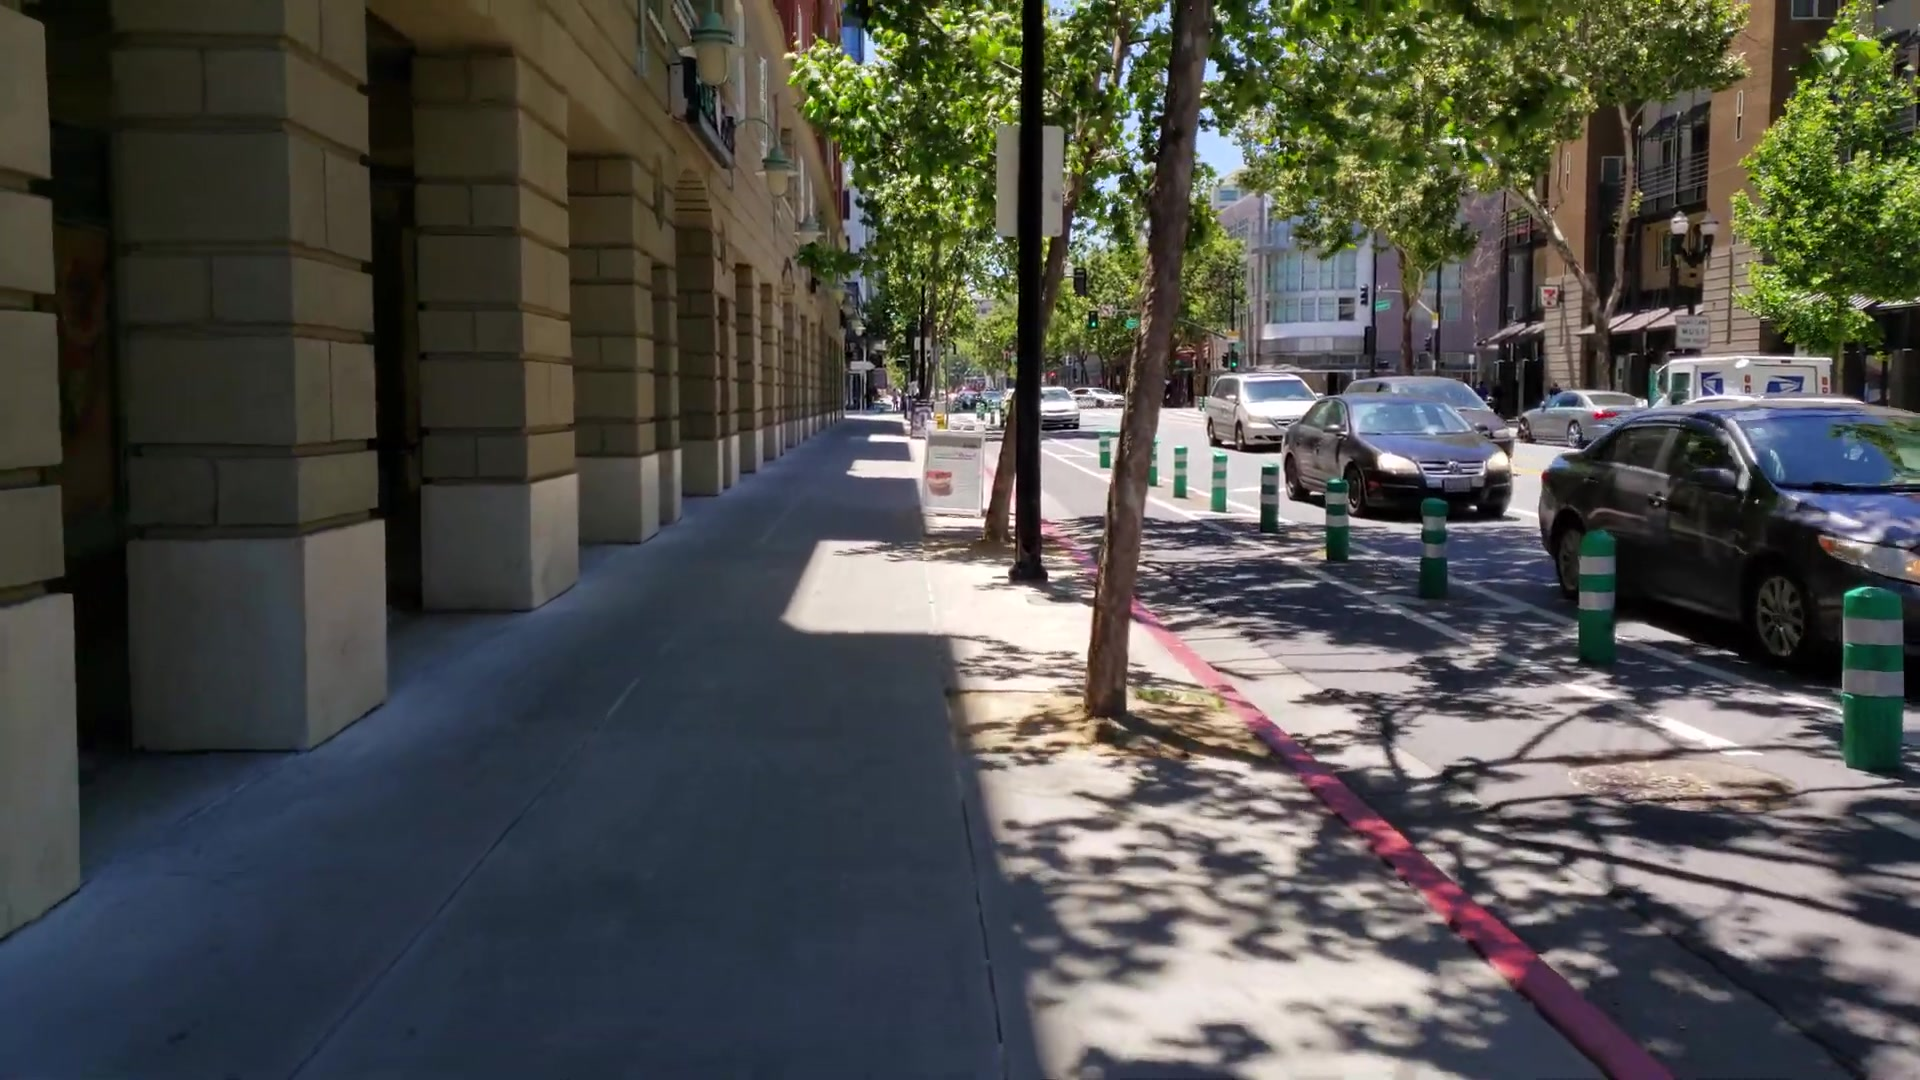vehicle: (1538, 407, 1920, 670), (1282, 392, 1511, 520), (1207, 369, 1327, 451)
